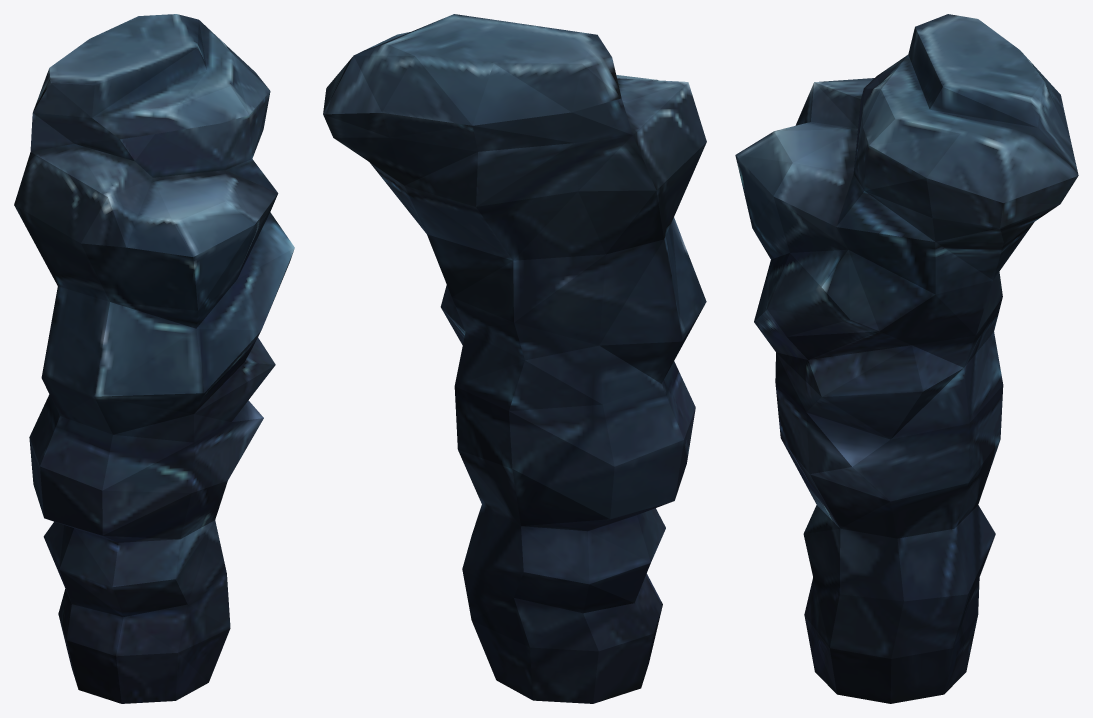
The model's file is H_Maze_shitou07.FBX.
The picture shows the model from 3 angles, left to right: view 1: azimuth 30°, elevation 25°; view 2: azimuth 150°, elevation 25°; view 3: azimuth 270°, elevation 25°; orthographic projection. The views are drawn at different scales.
Parts seen in each view (by area): view 1: shitou07; view 2: shitou07; view 3: shitou07.
Part boxes in pixels (left/top/right/bottom): shitou07: left=14, top=14, right=294, bottom=703; shitou07: left=323, top=14, right=706, bottom=703; shitou07: left=735, top=14, right=1078, bottom=703.
Size of the model in its own units: 133 by 279 by 138.
